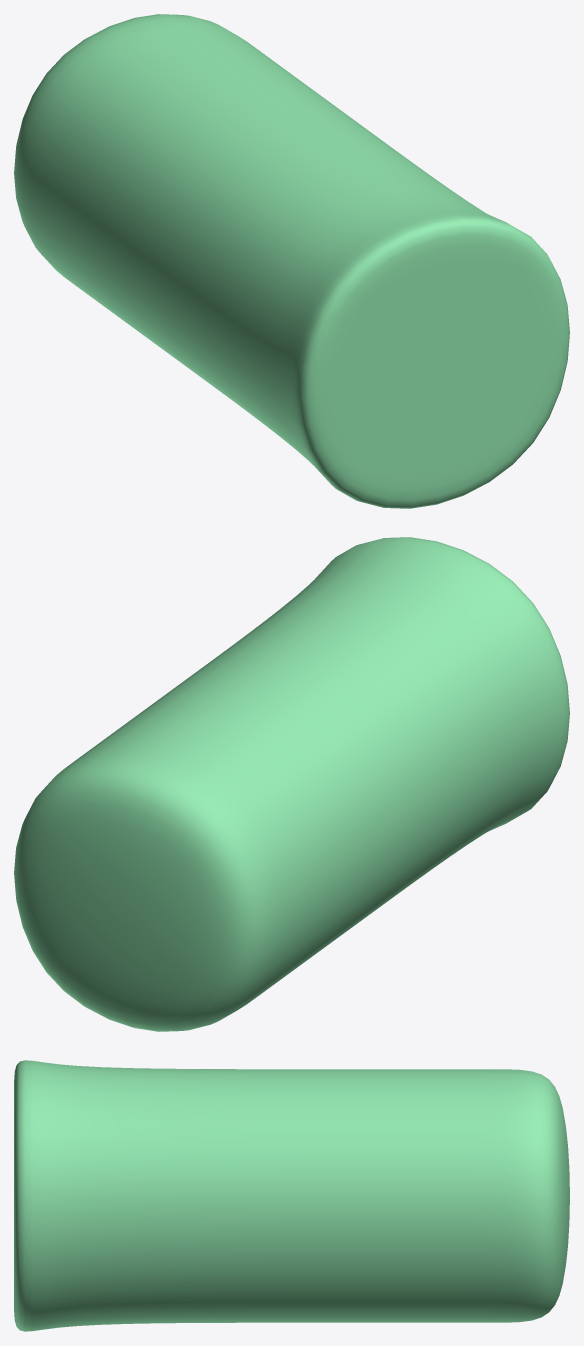
File: snake_body2.fbx
3 views of the same model, one above another, from view 1: azimuth 30°, elevation 25°; view 2: azimuth 150°, elevation 25°; view 3: azimuth 270°, elevation 25° (orthographic). The views are drawn at different scales.
Parts seen in each view (by area): view 1: 立方体.002; view 2: 立方体.002; view 3: 立方体.002.
Part boxes in pixels (box(x1,y1,x2,y2)): 立方体.002: box(14, 14, 569, 508); 立方体.002: box(14, 537, 569, 1031); 立方体.002: box(14, 1060, 569, 1331).
Bounding box in the file's own units: 48.87 × 48.87 × 101.
